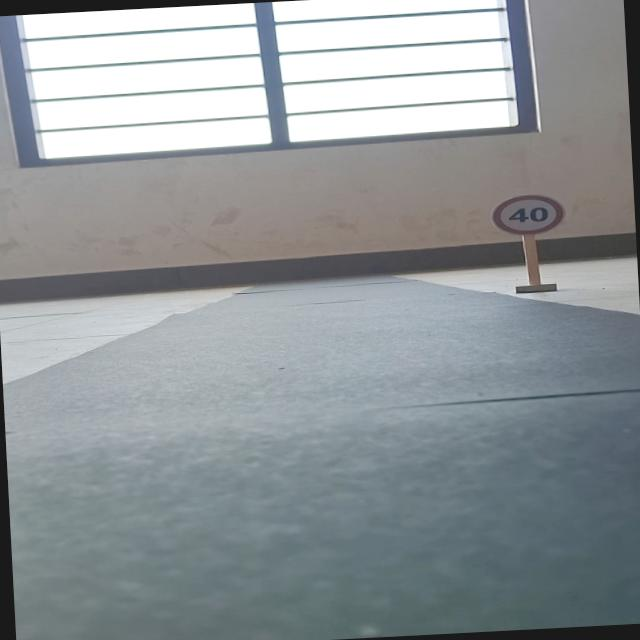Speed40: (486, 188, 566, 238)
